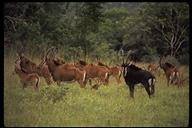antelope: (37, 46, 88, 91), (118, 48, 157, 100), (74, 59, 111, 87), (12, 59, 41, 92), (159, 59, 183, 89), (95, 61, 122, 84)
grass: (5, 99, 189, 125)
tree: (134, 4, 191, 58)
